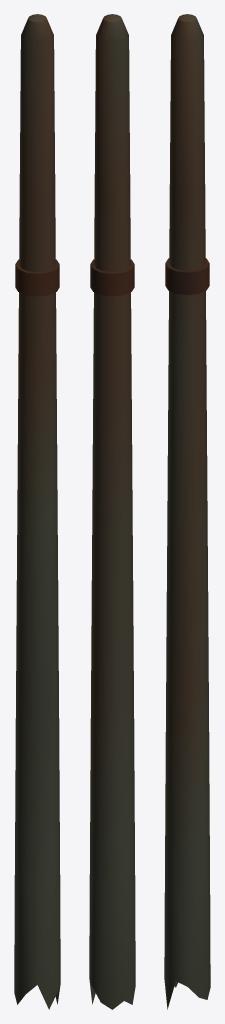
File: poste_tendido_punta.glb
The picture shows the model from 3 angles, left to right: view 1: azimuth 90°, elevation 25°; view 2: azimuth 210°, elevation 25°; view 3: azimuth 270°, elevation 25°; orthographic projection.
Visible parts, largest first — view 1: poste_tendido_punta.001; view 2: poste_tendido_punta.001; view 3: poste_tendido_punta.001.
Boxes of the visible parts, <box> form: poste_tendido_punta.001: <box>14,14,60,1009</box>; poste_tendido_punta.001: <box>89,14,135,1009</box>; poste_tendido_punta.001: <box>164,14,210,1009</box>.
Bounding box in the file's own units: 0.2975 × 7.04 × 0.2975.
